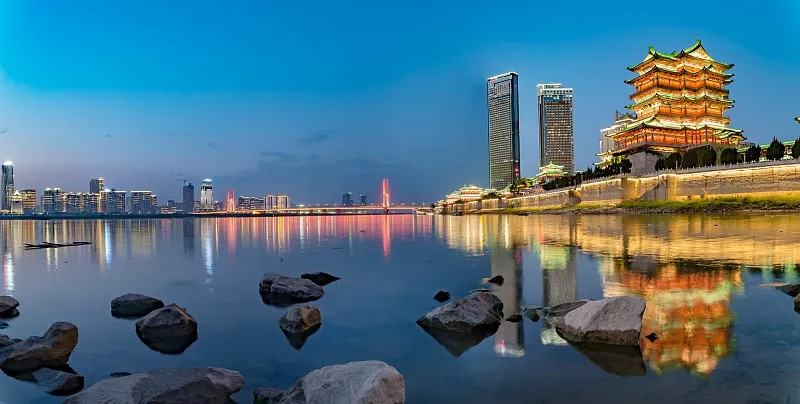Teng: (610, 39, 749, 150)
